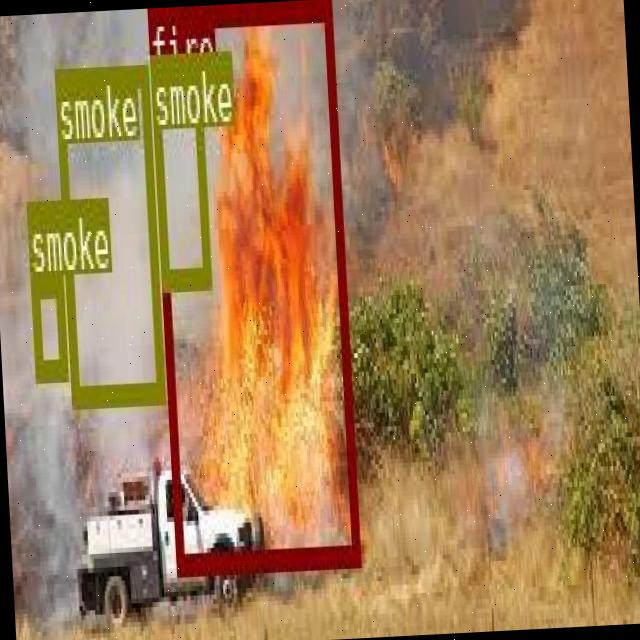fire: (146, 0, 357, 573)
smoke: (54, 61, 164, 401), (149, 52, 210, 288), (30, 274, 66, 378)
